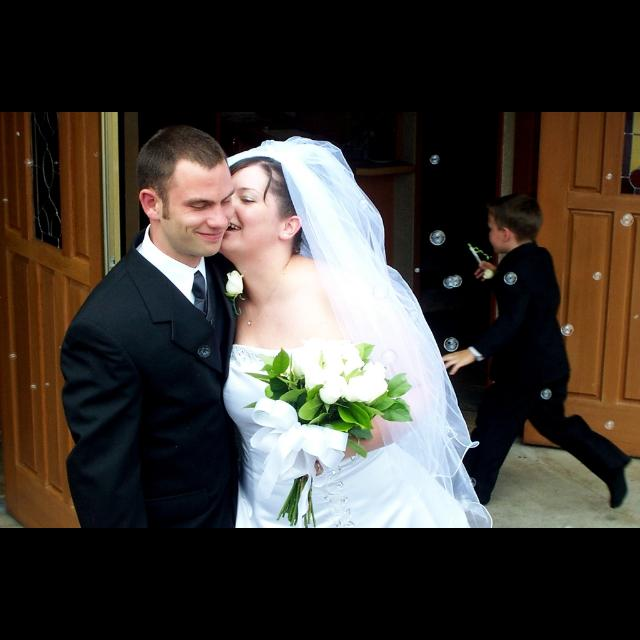Flower: (290, 339, 390, 408), (226, 268, 244, 296), (482, 268, 493, 280)
